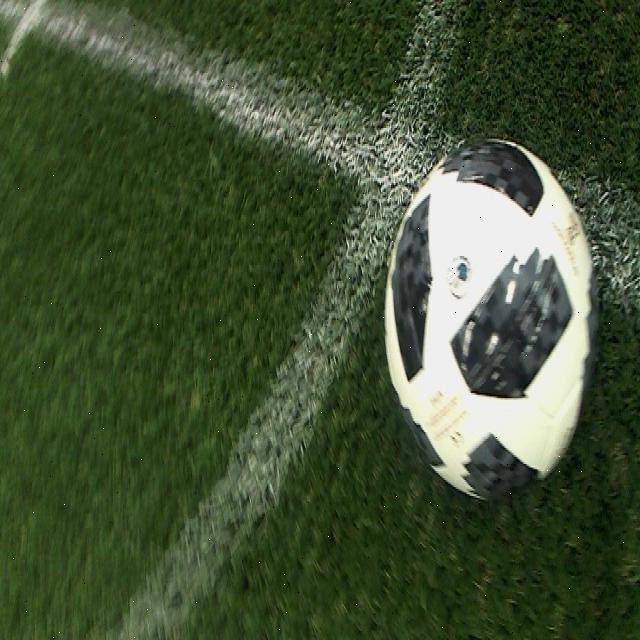ball: (382, 132, 599, 503)
